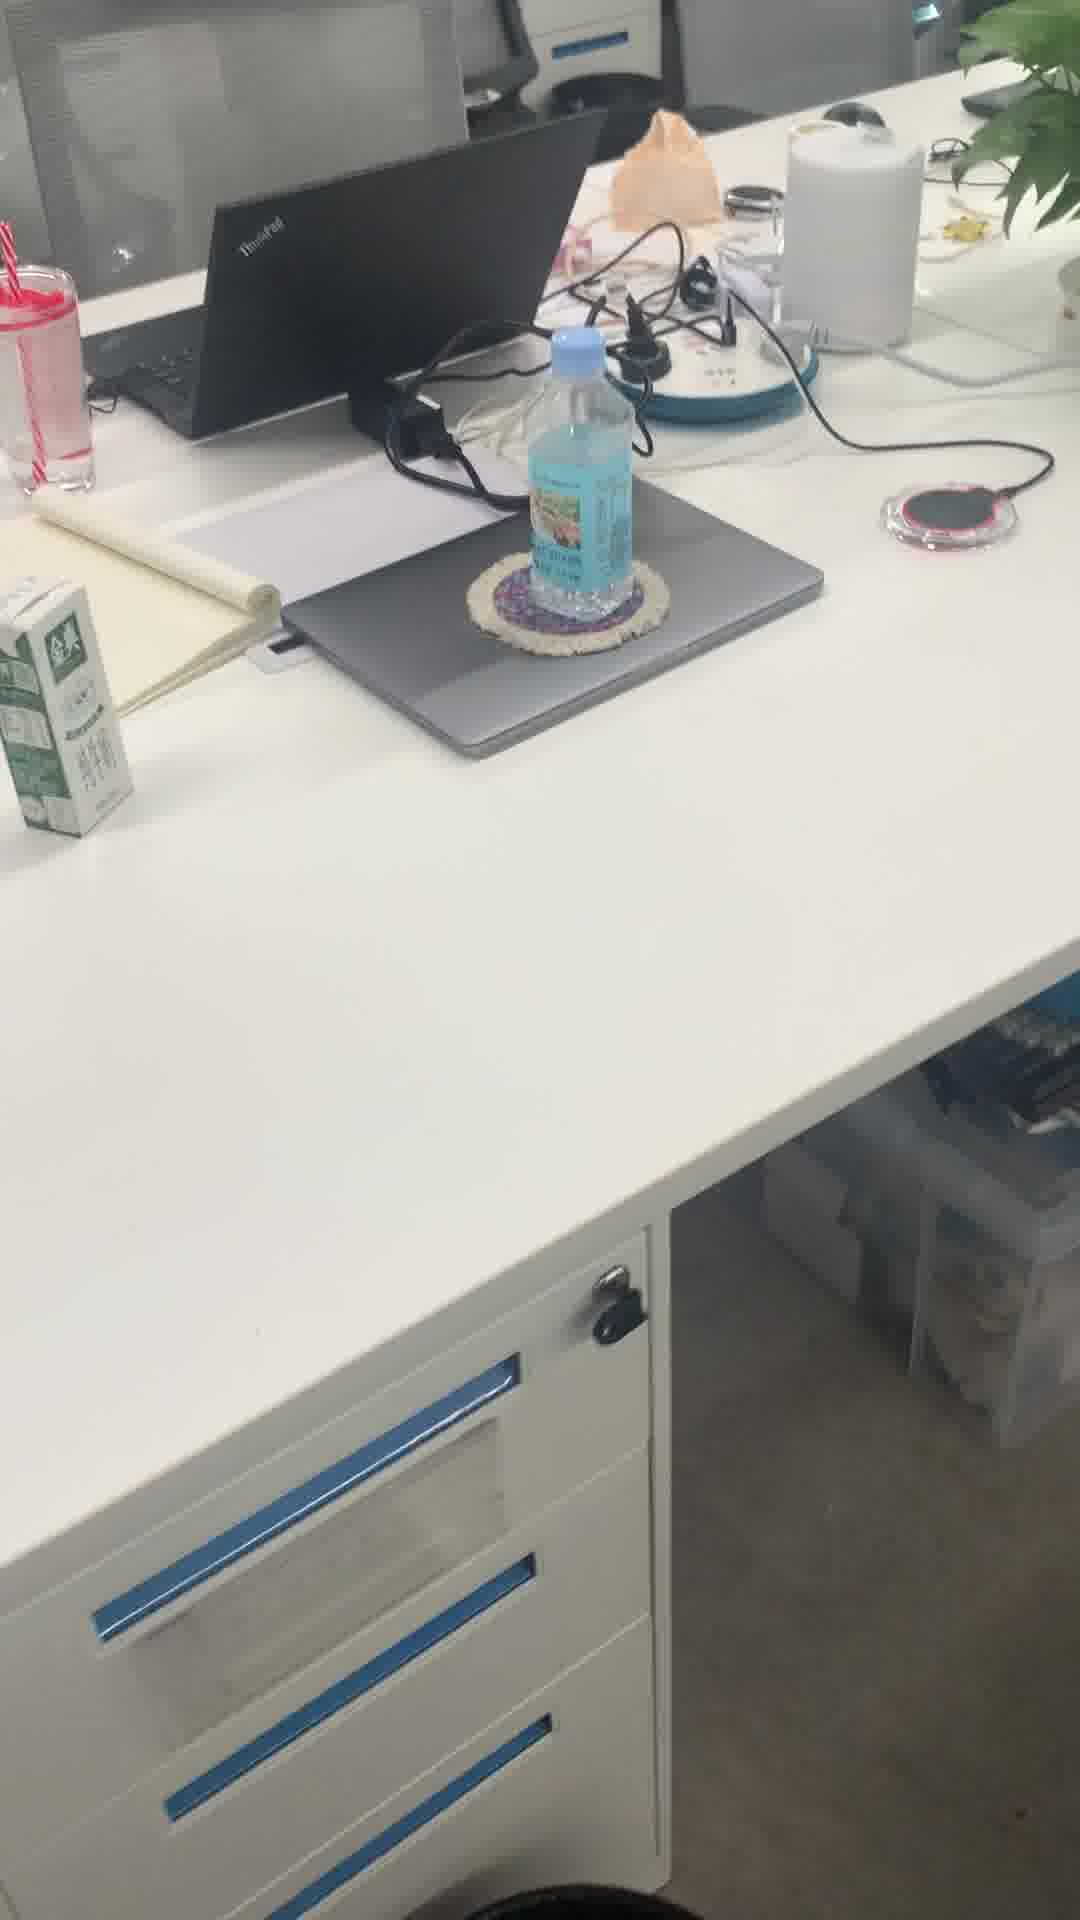水瓶: (516, 322, 651, 629)
